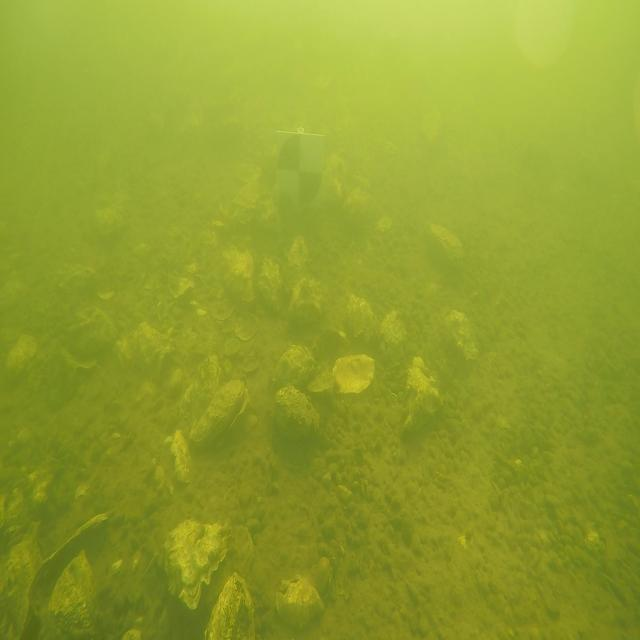Oyster- Indeterminate: (92, 191, 129, 240), (58, 262, 96, 293)
Oyster-Closed: (165, 520, 231, 609), (0, 522, 41, 639), (205, 573, 255, 640), (402, 356, 441, 436), (180, 353, 221, 424), (276, 576, 324, 629), (68, 307, 116, 360), (274, 384, 320, 438), (345, 296, 385, 342), (222, 247, 254, 302), (426, 224, 462, 271), (134, 322, 172, 366), (445, 311, 478, 360), (289, 278, 322, 324), (258, 258, 282, 311), (6, 336, 38, 373), (288, 236, 309, 284)
Oyster-Open: (22, 513, 109, 640), (180, 353, 249, 449), (332, 353, 375, 393)
